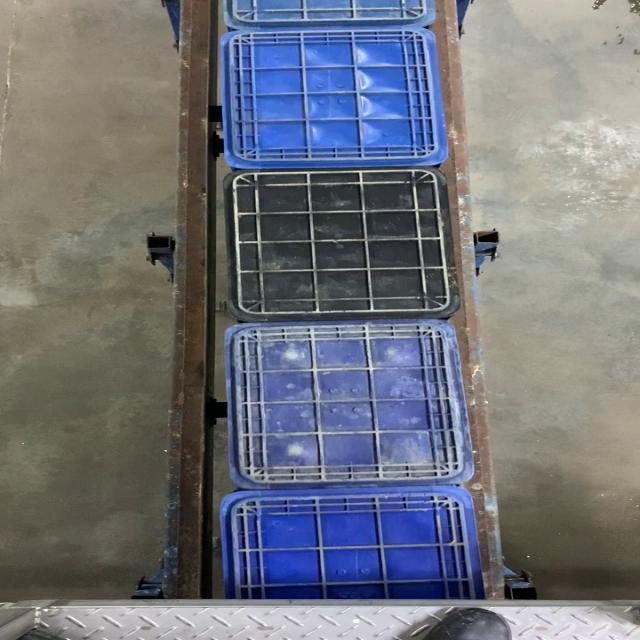Box: (220, 325, 480, 491), (223, 168, 461, 323), (222, 29, 452, 168)
